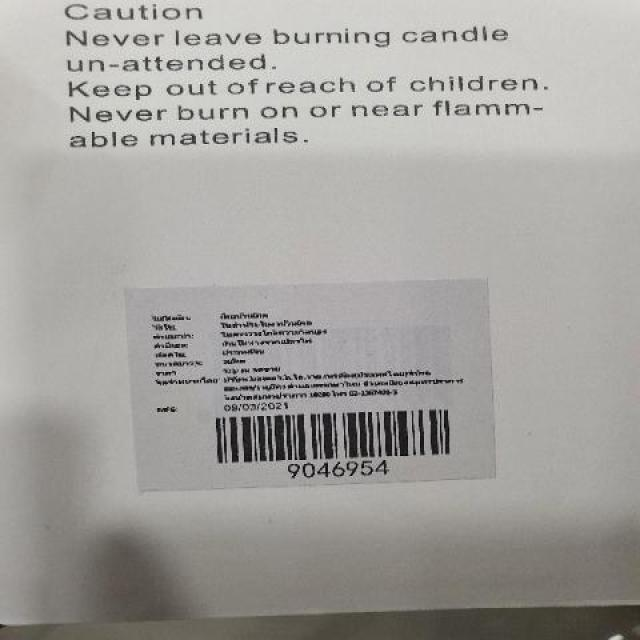Barcode: (194, 401, 466, 479)
